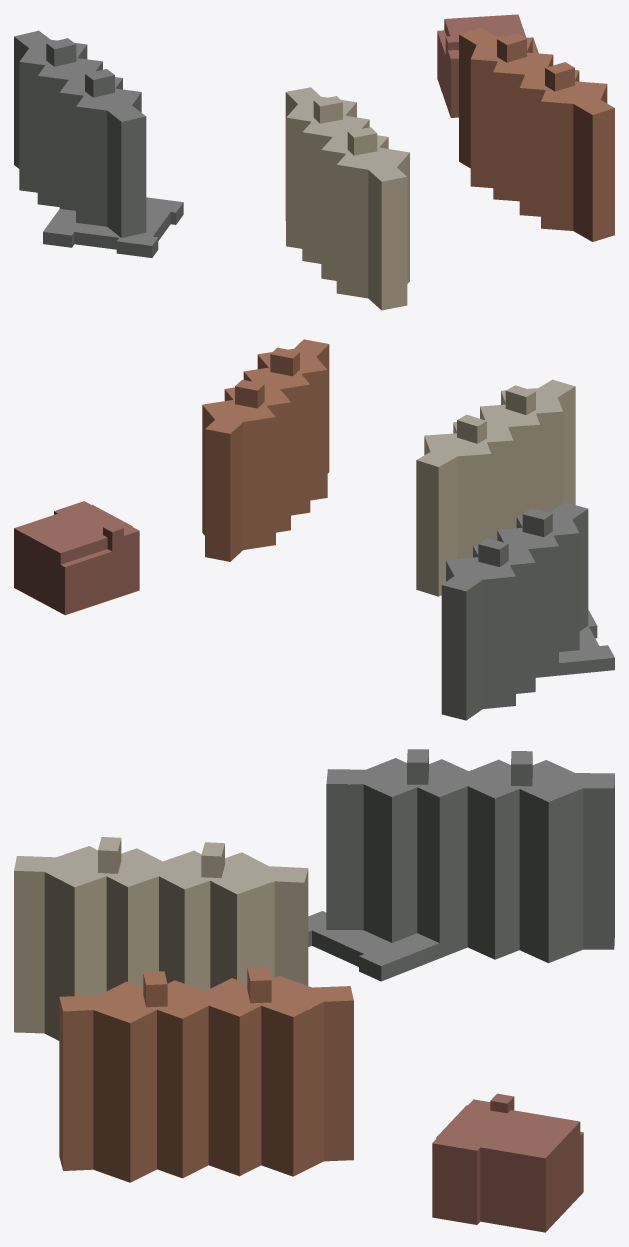
File: tile-8_8.glb
3 renders of one model, top to bottom at view 1: azimuth 30°, elevation 25°; view 2: azimuth 150°, elevation 25°; view 3: azimuth 270°, elevation 25°, orthographic. The views are drawn at different scales.
Parts seen in each view (by area): view 1: wall, roof; view 2: wall, roof; view 3: wall, roof.
Part boxes in pixels (x1=…): wall: x1=14, y1=19, x2=614, y2=310; roof: x1=14, y1=14, x2=614, y2=245; wall: x1=14, y1=344, x2=614, y2=720; roof: x1=14, y1=339, x2=614, y2=663; wall: x1=14, y1=750, x2=614, y2=1232; roof: x1=14, y1=749, x2=614, y2=1158.
Bounding box in the file's own units: 164 × 44.04 × 127.
